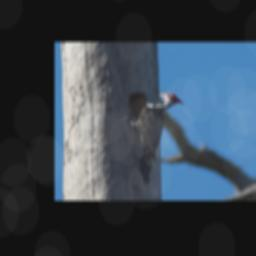Woodpecker: (119, 89, 185, 186)
